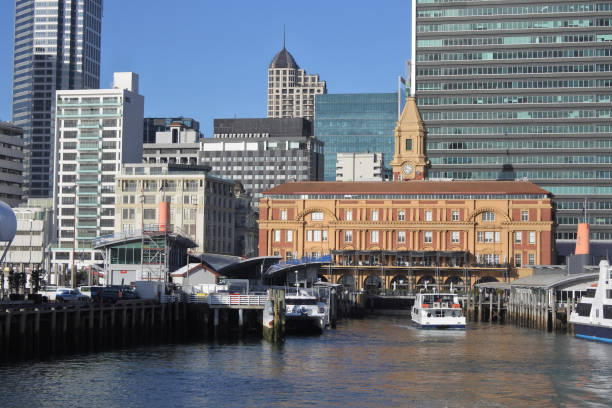ferry: (570, 259, 612, 344), (410, 280, 468, 330)
